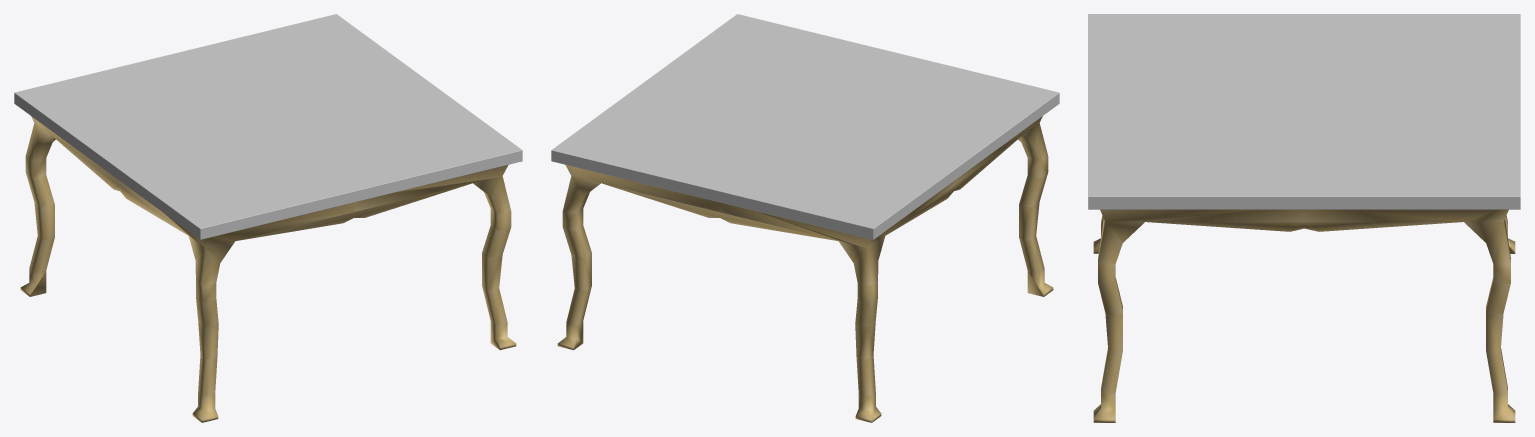
Rendered from marble_table.obj.
3 views of the same model, side by side, from view 1: azimuth 30°, elevation 25°; view 2: azimuth 150°, elevation 25°; view 3: azimuth 270°, elevation 25° (orthographic). The views are drawn at different scales.
Parts seen in each view (by area): view 1: 2_2_2.002, 1_1_1.002; view 2: 2_2_2.002, 1_1_1.002; view 3: 2_2_2.002, 1_1_1.002.
Part boxes in pixels (x1,y1,x2,y2): 2_2_2.002: (14, 14, 522, 239); 1_1_1.002: (20, 116, 516, 422); 2_2_2.002: (551, 14, 1059, 239); 1_1_1.002: (557, 116, 1053, 422); 2_2_2.002: (1088, 14, 1520, 209); 1_1_1.002: (1093, 209, 1515, 422).
Size of the model in its own units: 2.92 by 1.71 by 2.92.
